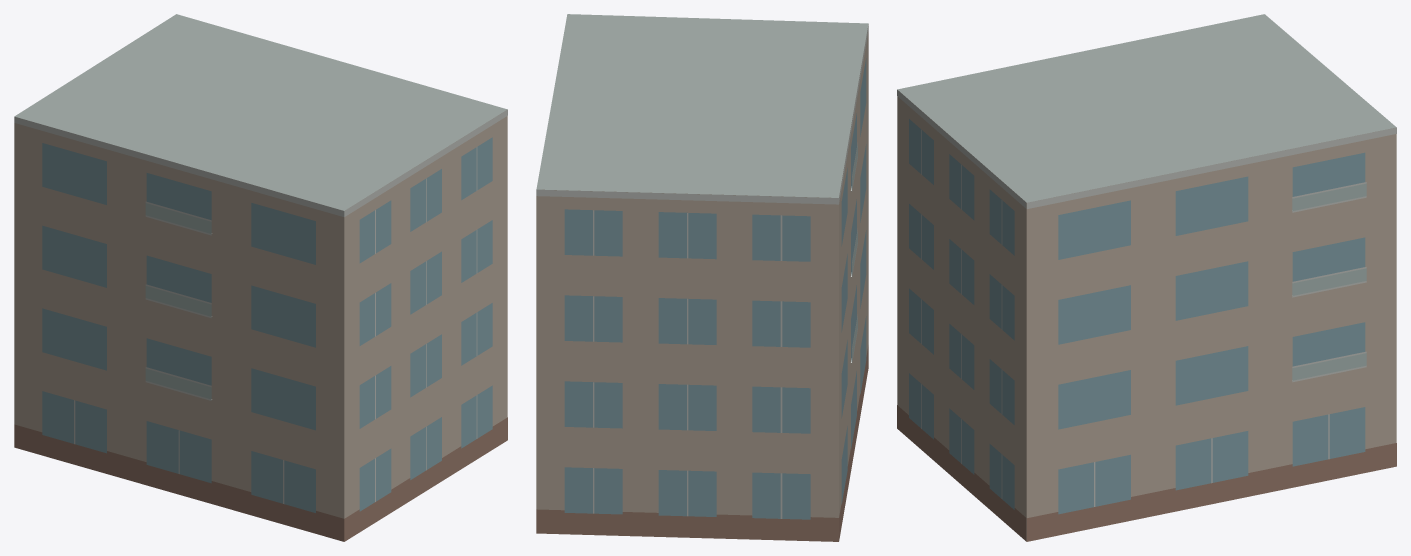
Rendered from survey-upis-32731902.glb.
The picture shows the model from 3 angles, left to right: view 1: azimuth 30°, elevation 25°; view 2: azimuth 150°, elevation 25°; view 3: azimuth 270°, elevation 25°; orthographic projection. The views are drawn at different scales.
Parts seen in each view (by area): view 1: survey-upis-32731902.tmp; view 2: survey-upis-32731902.tmp; view 3: survey-upis-32731902.tmp.
Part boxes in pixels (bbox=[...]): survey-upis-32731902.tmp: bbox=[14, 14, 507, 541]; survey-upis-32731902.tmp: bbox=[536, 14, 868, 541]; survey-upis-32731902.tmp: bbox=[897, 14, 1396, 541].
Bounding box in the file's own units: 15.29 × 12.8 × 17.1.
